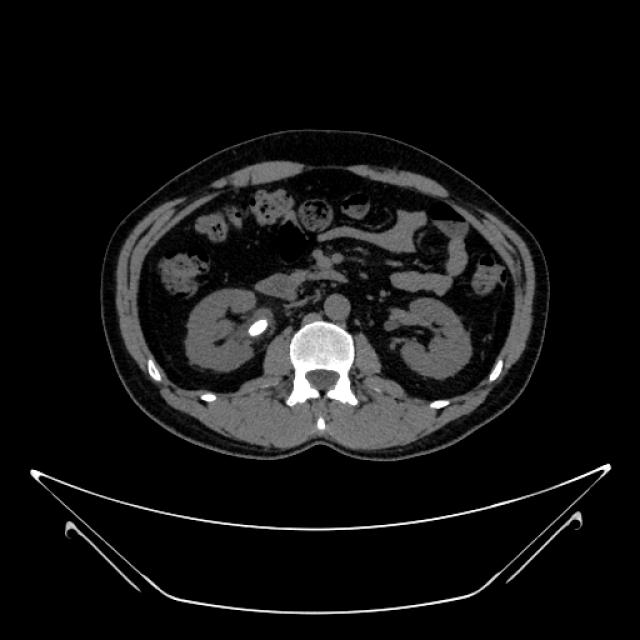kidney: (184, 286, 279, 377), (382, 294, 470, 382)
stone: (247, 318, 267, 338)
